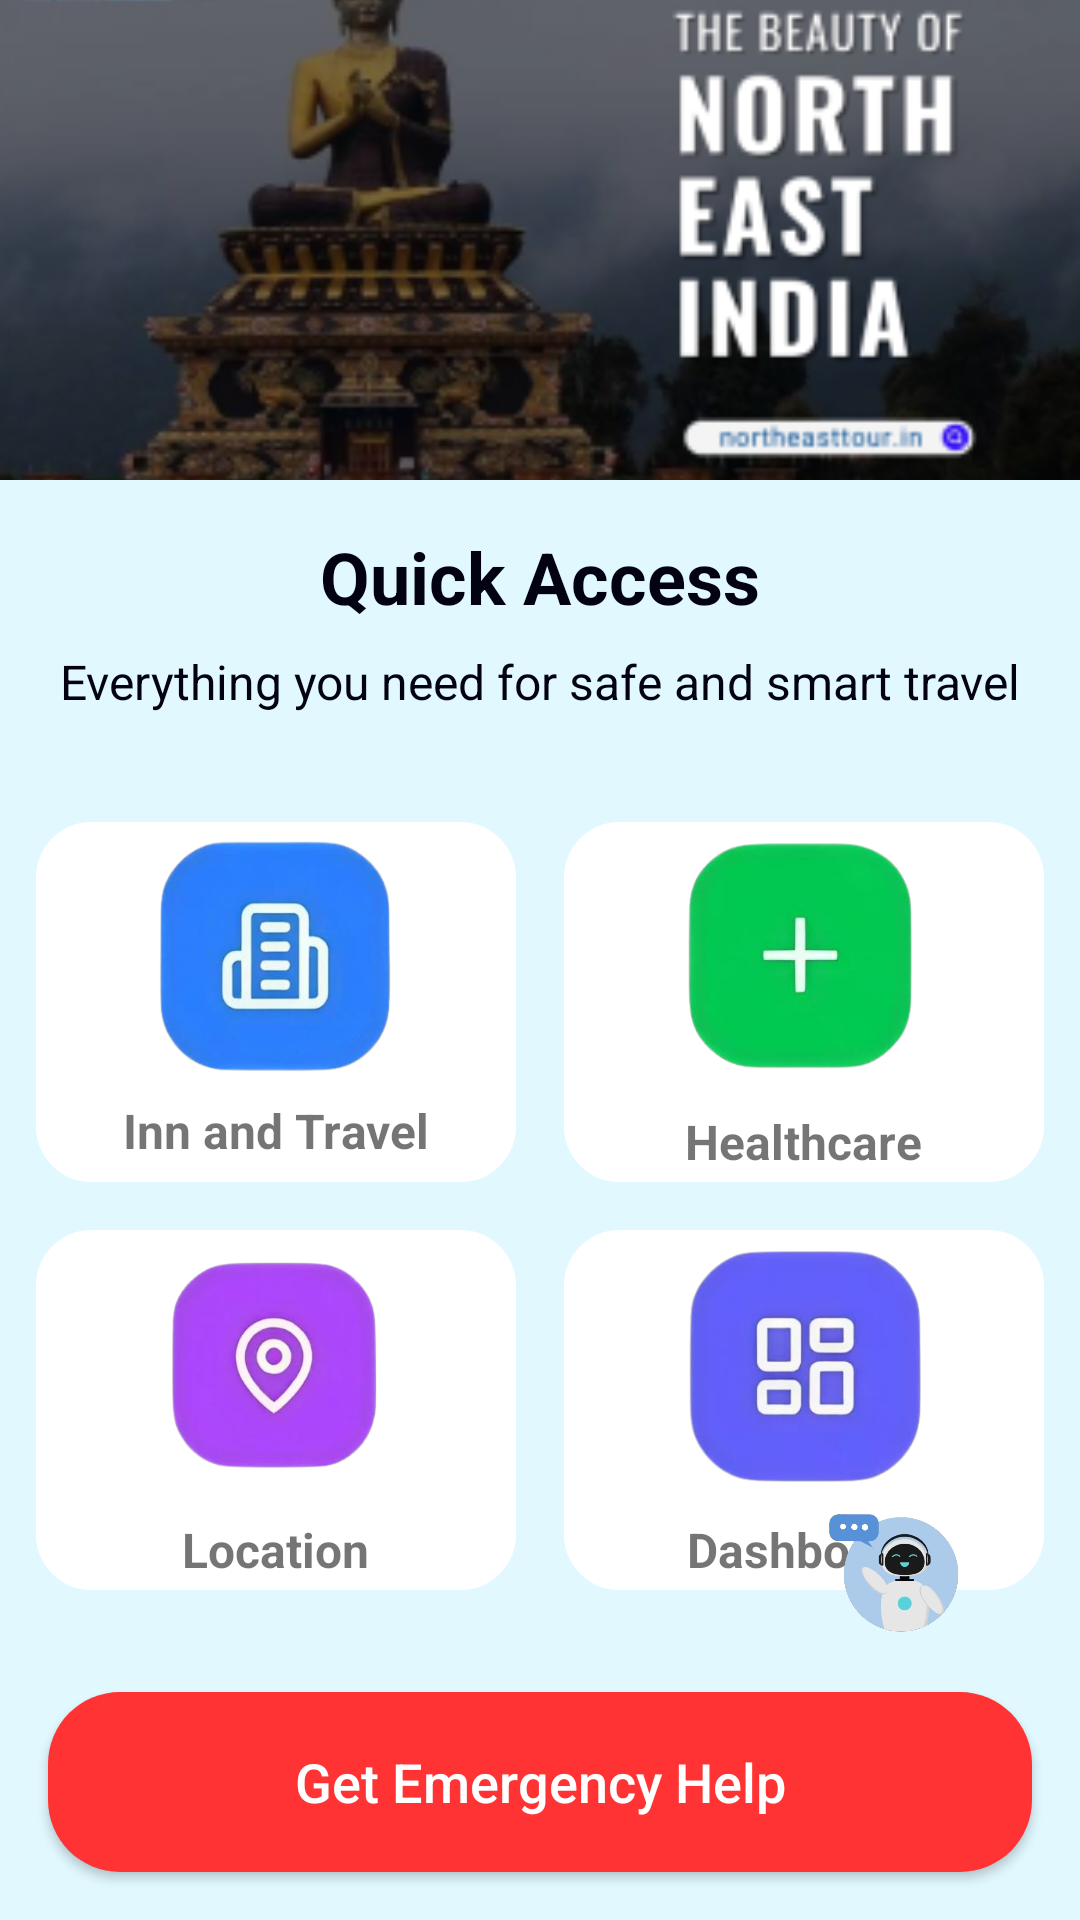

Icons on this 1080px x 1920px Android screen, each with the point to tap as (x,y):
accommodation: (275,956)
assistant: (900,1572)
